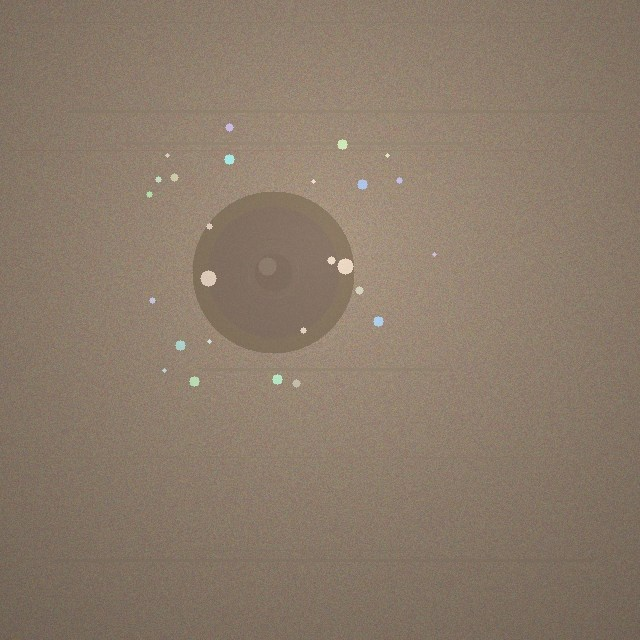overburn: (192, 191, 354, 353)
